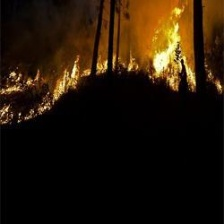fire: (2, 9, 224, 125)
